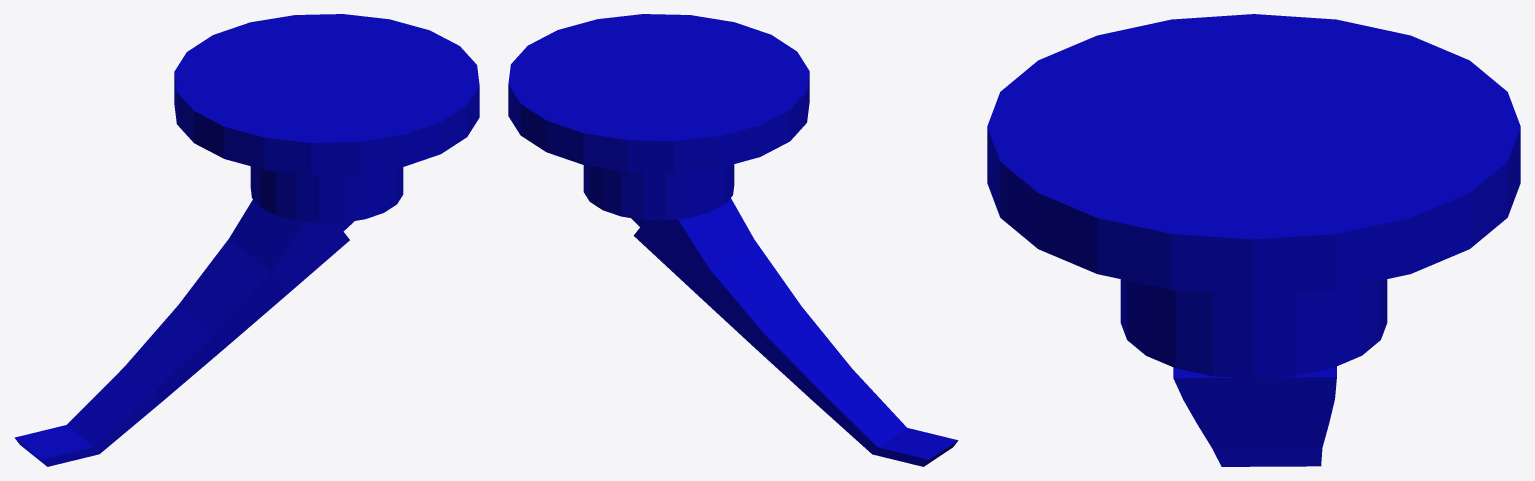
3 renders of one model, left to right at view 1: azimuth 30°, elevation 25°; view 2: azimuth 150°, elevation 25°; view 3: azimuth 270°, elevation 25°, orthographic. The views are drawn at different scales.
Visible parts, largest first — view 1: pCube8; view 2: pCube8; view 3: pCube8.
Boxes of the visible parts, left/top/right/bottom form: pCube8: left=14, top=14, right=479, bottom=466; pCube8: left=508, top=14, right=958, bottom=466; pCube8: left=987, top=14, right=1520, bottom=466.
Bounding box in the file's own units: 3.22 × 2.24 × 2.
